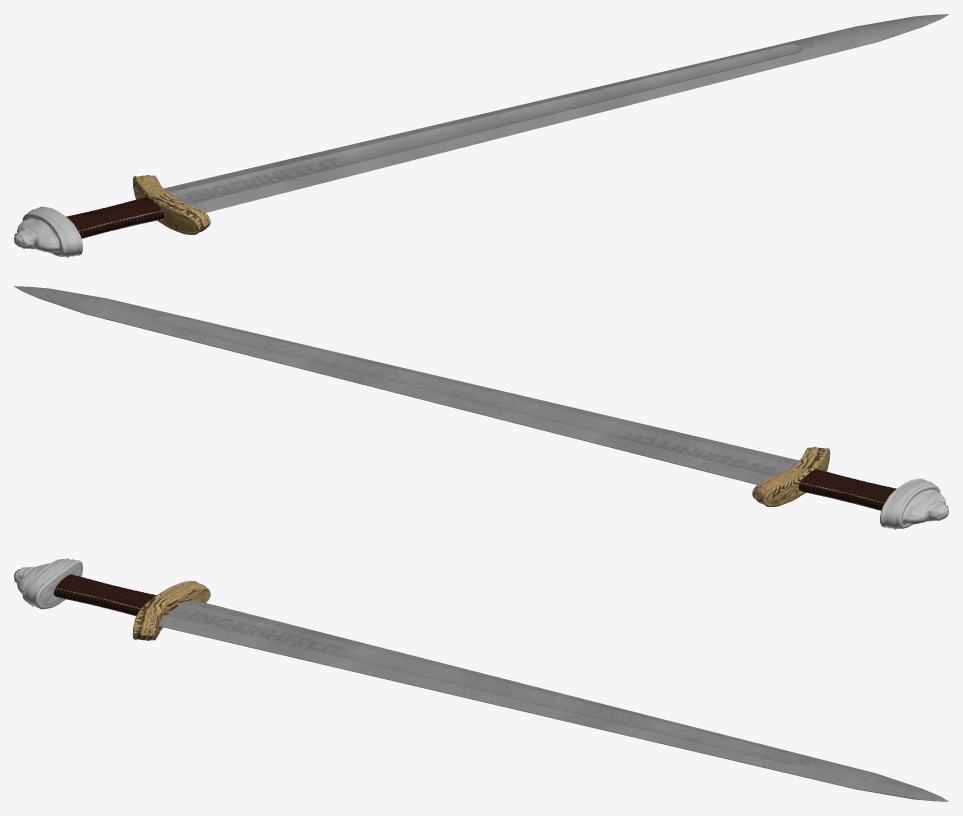
Rendered from Viking-Sword-fbx.fbx.
The picture shows the model from 3 angles, top to bottom: view 1: azimuth 30°, elevation 25°; view 2: azimuth 150°, elevation 25°; view 3: azimuth 330°, elevation 25°; orthographic projection.
Visible parts, largest first — view 1: pCube1, swordtop2:pCube1, pHelix1, Cross_guard_low:pCube2; view 2: pCube1, swordtop2:pCube1, pHelix1, Cross_guard_low:pCube2; view 3: pCube1, pHelix1, swordtop2:pCube1, Cross_guard_low:pCube2.
Boxes of the visible parts, bbox=[...] form: pCube1: bbox=[78, 14, 948, 238]; swordtop2:pCube1: bbox=[14, 206, 82, 257]; pHelix1: bbox=[66, 197, 164, 238]; Cross_guard_low:pCube2: bbox=[132, 175, 210, 234]; pCube1: bbox=[14, 286, 884, 510]; swordtop2:pCube1: bbox=[880, 478, 948, 529]; pHelix1: bbox=[798, 469, 896, 510]; Cross_guard_low:pCube2: bbox=[752, 447, 830, 506]; pCube1: bbox=[55, 588, 948, 801]; pHelix1: bbox=[54, 574, 156, 615]; swordtop2:pCube1: bbox=[14, 558, 82, 609]; Cross_guard_low:pCube2: bbox=[132, 580, 210, 640].
Bounding box in the file's own units: 53.77 × 1.85 × 6.59.
